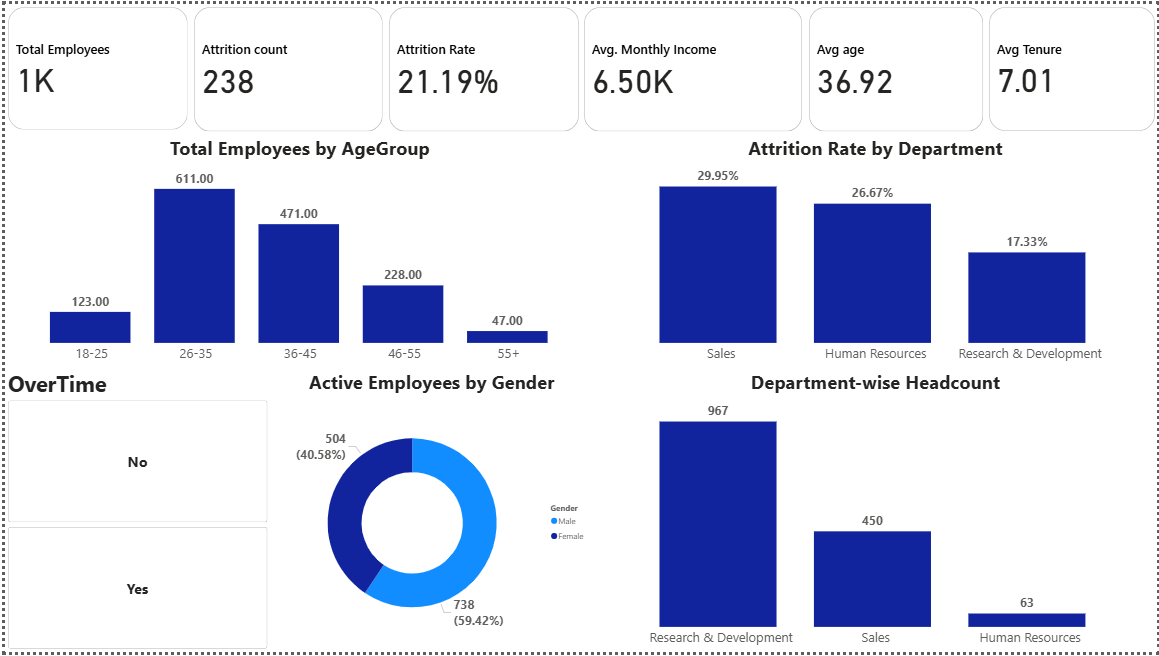

What the dashboard file says about the page in this screenshot:
{"tool":"powerbi","page":{"name":"Overview Page","canvas":[1920,1080],"ordinal":0},"visuals":[{"type":"cardVisual","fields":{"Data":["HR_Analytics.Total Employees"]},"box":[0,0,309.8,214.6],"z":0},{"type":"cardVisual","fields":{"Data":["HR_Analytics.Attrition count"]},"box":[309.8,0,324.4,217.1],"z":2000},{"type":"cardVisual","fields":{"Data":["HR_Analytics.Attrition Rate"]},"box":[634.1,0,326.8,217.1],"z":3000},{"type":"cardVisual","fields":{"Data":["HR_Analytics.Avg. Monthly Income"]},"box":[961,0,373.2,217.1],"z":4000},{"type":"cardVisual","fields":{"Data":["HR_Analytics.Avg age"]},"box":[1334.1,0,300,217.1],"z":5000},{"type":"cardVisual","fields":{"Data":["HR_Analytics.Avg Tenure"]},"box":[1634,0,286,216],"z":6000},{"type":"columnChart","title":"Department-wise Headcount","fields":{"Y":["Sum(HR_Analytics.EmployeeCount)"],"Category":["HR_Analytics.Department"]},"box":[983.3,606.7,936.7,473.3],"z":7000},{"type":"columnChart","fields":{"Y":["HR_Analytics.Attrition Rate"],"Category":["HR_Analytics.Department"]},"box":[983.3,216.7,936.7,390],"z":8000},{"type":"columnChart","fields":{"Category":["HR_Analytics.AgeGroup"],"Y":["HR_Analytics.Total Employees"]},"box":[0,216.7,983.3,390],"z":9000},{"type":"donutChart","fields":{"Y":["HR_Analytics.Active Employees"],"Category":["HR_Analytics.Gender"]},"box":[0,606.7,980,473.3],"z":10000}]}

Visuals, with their boxes in screenshot pixels (x1, y1, x2, y2), scaled from the page's 1920x1080 canvas onto the 1159x656 screenshot:
cardVisual - HR_Analytics.Total Employees: crop(0, 0, 187, 130)
cardVisual - HR_Analytics.Attrition count: crop(187, 0, 383, 132)
cardVisual - HR_Analytics.Attrition Rate: crop(383, 0, 580, 132)
cardVisual - HR_Analytics.Avg. Monthly Income: crop(580, 0, 805, 132)
cardVisual - HR_Analytics.Avg age: crop(805, 0, 986, 132)
cardVisual - HR_Analytics.Avg Tenure: crop(986, 0, 1158, 131)
"Department-wise Headcount" columnChart: crop(594, 369, 1158, 655)
columnChart - HR_Analytics.Attrition Rate x HR_Analytics.Department: crop(594, 132, 1158, 369)
columnChart - HR_Analytics.AgeGroup x HR_Analytics.Total Employees: crop(0, 132, 594, 369)
donutChart - HR_Analytics.Active Employees x HR_Analytics.Gender: crop(0, 369, 592, 655)
